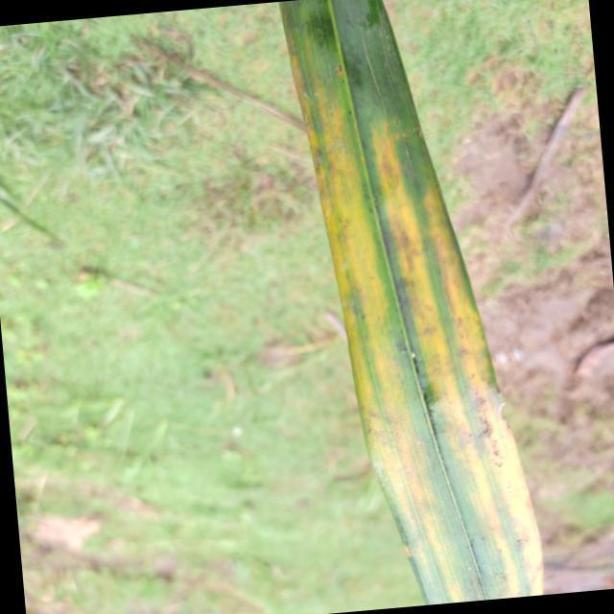Megnesium: (281, 0, 547, 605)
